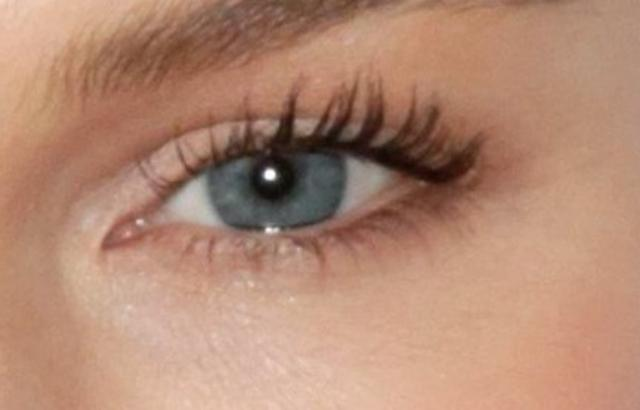eye: (203, 147, 349, 232)
